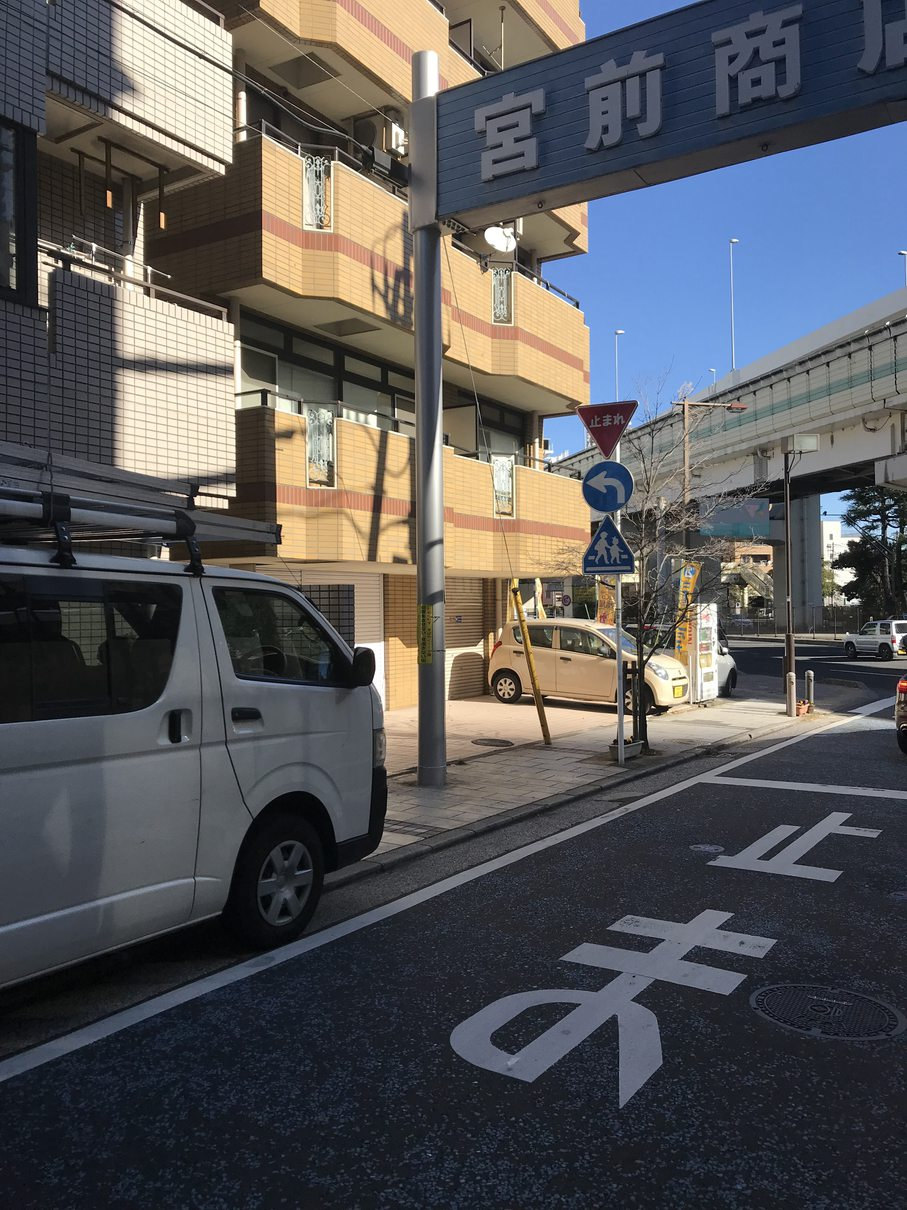stop_sign: (572, 399, 638, 459)
